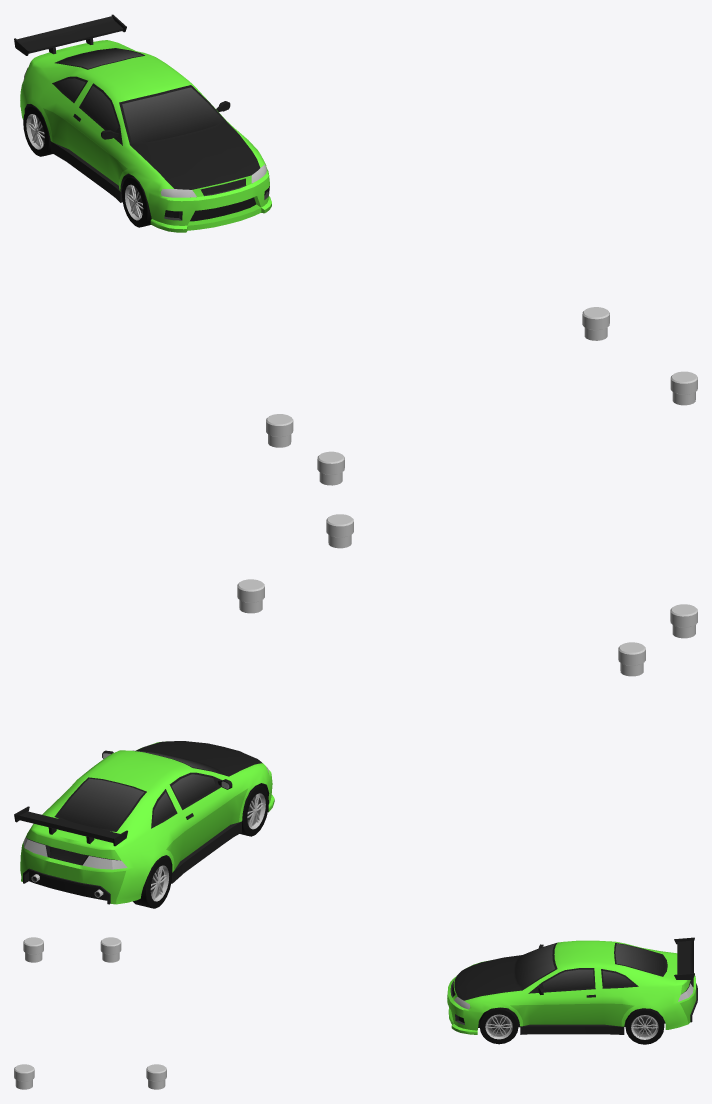
File: changjing3_2.fbx
3 renders of one model, top to bottom at view 1: azimuth 30°, elevation 25°; view 2: azimuth 150°, elevation 25°; view 3: azimuth 270°, elevation 25°, orthographic. The views are drawn at different scales.
Visible parts, largest first — view 1: PaoChe00_18, zhuangzi106, zhuangzi50, zhuangzi51, zhuangzi52; view 2: PaoChe00_18, zhuangzi51, zhuangzi52, zhuangzi106, zhuangzi50; view 3: PaoChe00_18, zhuangzi51, zhuangzi52, zhuangzi106, zhuangzi50.
Part boxes in pixels (x1,y1,x2,y2): PaoChe00_18: [14, 14, 271, 232]; zhuangzi106: [317, 451, 344, 485]; zhuangzi50: [670, 371, 697, 405]; zhuangzi51: [266, 414, 293, 447]; zhuangzi52: [582, 307, 609, 340]; PaoChe00_18: [14, 741, 274, 908]; zhuangzi51: [618, 642, 645, 676]; zhuangzi52: [237, 579, 264, 613]; zhuangzi106: [670, 604, 697, 638]; zhuangzi50: [326, 514, 353, 548]; PaoChe00_18: [447, 937, 697, 1044]; zhuangzi51: [100, 937, 121, 962]; zhuangzi52: [146, 1064, 166, 1089]; zhuangzi106: [23, 937, 43, 962]; zhuangzi50: [14, 1064, 34, 1089].
Size of what is drawn, in the model's own units: 1743 by 426 by 3712.
